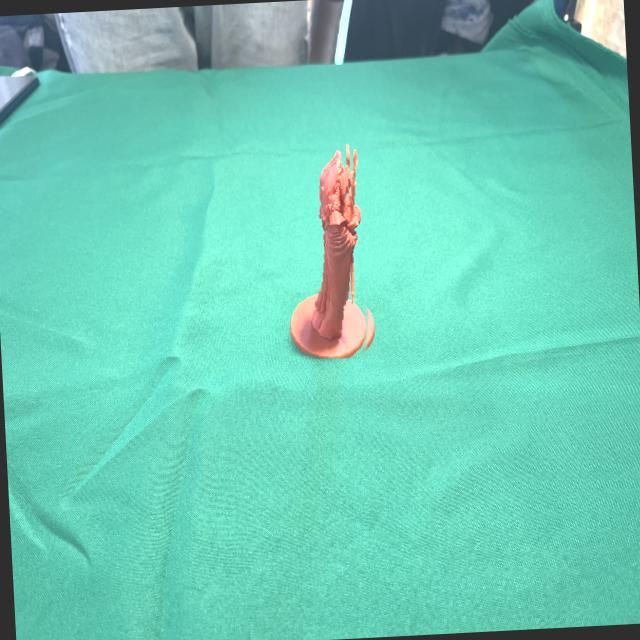amon: (274, 134, 384, 362)
